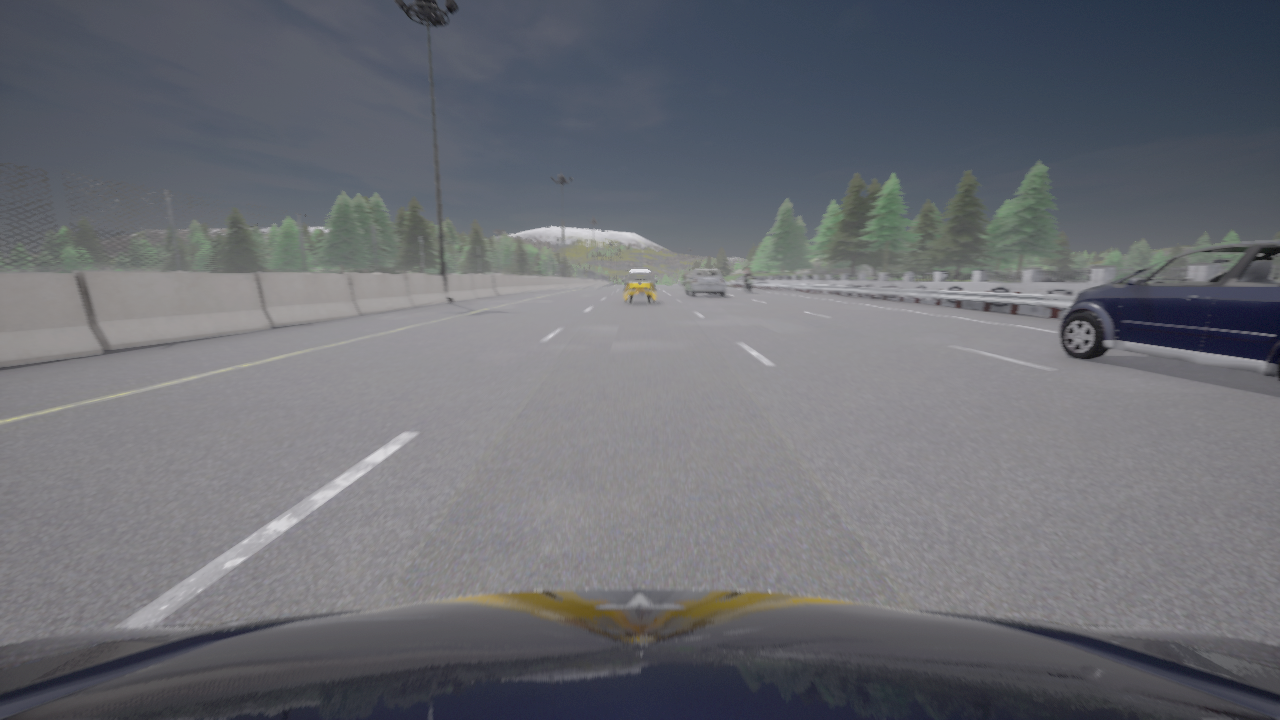cyclist: (0, 588, 1279, 719), (1059, 240, 1279, 381), (623, 269, 656, 303), (685, 269, 725, 296), (742, 276, 753, 292), (680, 276, 686, 289)
